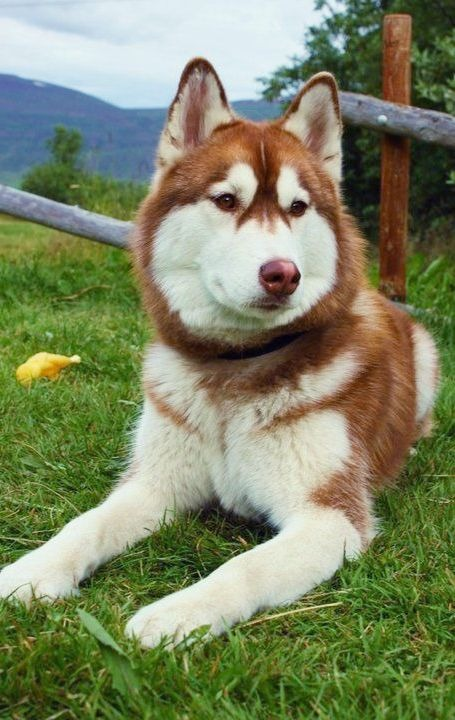husky: (9, 55, 405, 636)
